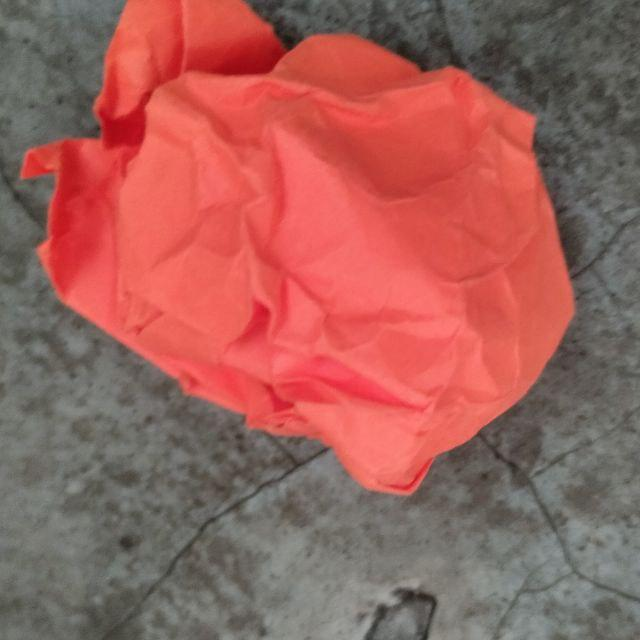paper: (13, 0, 607, 516)
